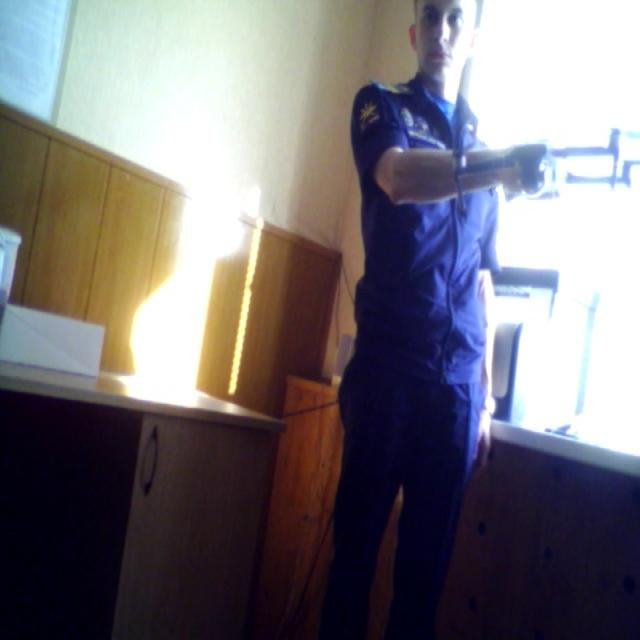drone: (441, 88, 640, 226)
